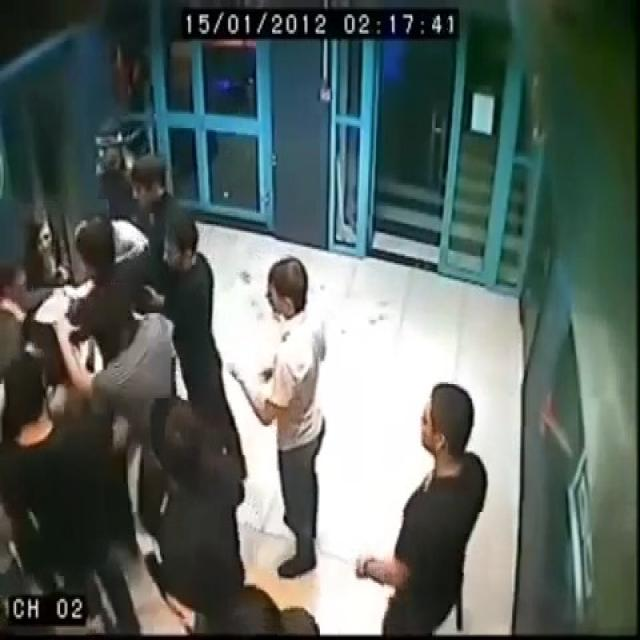fight: (0, 210, 139, 362)
